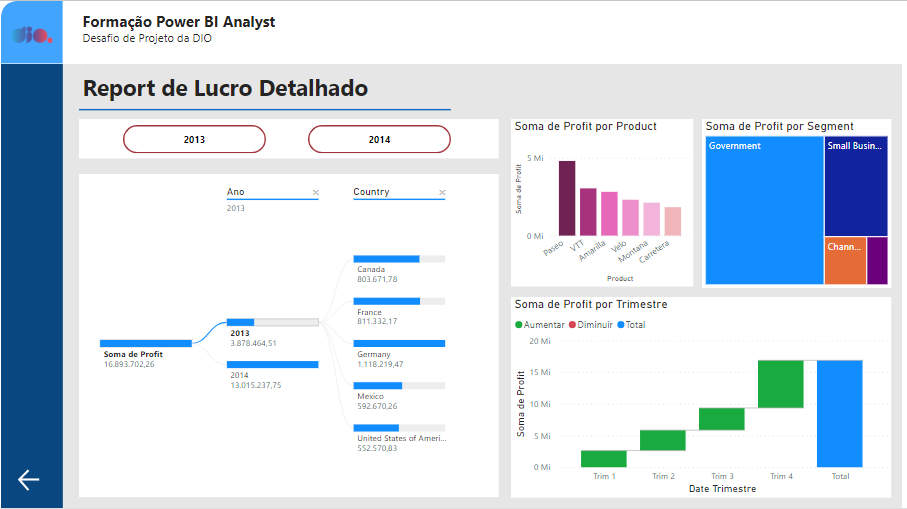

The dashboard page shown, as its layout file describes it:
{"tool":"powerbi","page":{"name":"Página 2","canvas":[1280,720],"ordinal":1},"visuals":[{"type":"shape","box":[87.7,0,1192.3,89.3],"z":0,"group":"g1"},{"type":"shape","box":[0,89.3,87.8,630.7],"z":0},{"type":"shape","box":[0,0,87.8,89.3],"z":1000},{"type":"textbox","box":[110.7,8.6,370.1,70.6],"z":1000,"group":"g1"},{"type":"image","title":"Logo-dio","box":[10.1,8.6,67.7,77.8],"z":2000},{"type":"group","id":"g1","title":"Título","box":[87.7,0,1192.3,89.3],"z":3000},{"type":"shape","box":[87.8,89.3,1192.3,630.7],"z":4000},{"type":"textbox","box":[110.9,95,436.3,60.5],"z":5000},{"type":"shape","box":[110.9,139.7,528.5,30.2],"z":6000},{"type":"actionButton","box":[20.2,661,49,40.3],"z":7000},{"type":"waterfallChart","fields":{"Category":["financials.Date.Variation.Hierarquia de datas.Trimestre"],"Y":["Sum(financials.Profit)"]},"box":[724.3,420.5,540,285.1],"z":8000},{"type":"treemap","fields":{"Values":["Sum(financials.Profit)"],"Group":["financials.Segment"]},"box":[995,167,269.3,240.5],"z":9000},{"type":"clusteredColumnChart","fields":{"Category":["financials.Product"],"Y":["Sum(financials.Profit)"]},"box":[724.3,167,259.2,237.6],"z":10000},{"type":"decompositionTreeVisual","fields":{"Analyze":["Sum(financials.Profit)"],"ExplainBy":["financials.Date.Variation.Hierarquia de datas.Ano","financials.Country"]},"box":[110.9,246.2,596.2,459.4],"z":11000},{"type":"shape","box":[110.9,167,596.2,56.2],"z":12000,"group":"g2"},{"type":"actionButton","box":[436.3,175.6,203,40.3],"z":12500,"group":"g2"},{"type":"actionButton","box":[172.8,175.6,203,40.3],"z":13000,"group":"g2"},{"type":"group","id":"g2","title":"Botões","box":[110.9,167,596.2,56.2],"z":14001}]}

Visuals, with their boxes on the page's 1280x720 design canvas (x1, y1, x2, y2). These are canvas units, not pixel positions in the 907x509 screenshot, which may show the page scaled, cropped or inside an application window:
shape: bbox=[88, 0, 1280, 89]
shape: bbox=[0, 89, 88, 720]
shape: bbox=[0, 0, 88, 89]
textbox: bbox=[111, 9, 481, 79]
"Logo-dio" image: bbox=[10, 9, 78, 86]
"Título" group: bbox=[88, 0, 1280, 89]
shape: bbox=[88, 89, 1280, 720]
textbox: bbox=[111, 95, 547, 156]
shape: bbox=[111, 140, 639, 170]
actionButton: bbox=[20, 661, 69, 701]
waterfallChart - financials.Date.Variation.Hierarquia de datas.Trimestre x Sum(financials.Profit): bbox=[724, 420, 1264, 706]
treemap - Sum(financials.Profit) x financials.Segment: bbox=[995, 167, 1264, 408]
clusteredColumnChart - financials.Product x Sum(financials.Profit): bbox=[724, 167, 984, 405]
decompositionTreeVisual - Sum(financials.Profit) x financials.Date.Variation.Hierarquia de datas.Ano: bbox=[111, 246, 707, 706]
shape: bbox=[111, 167, 707, 223]
actionButton: bbox=[436, 176, 639, 216]
actionButton: bbox=[173, 176, 376, 216]
"Botões" group: bbox=[111, 167, 707, 223]
